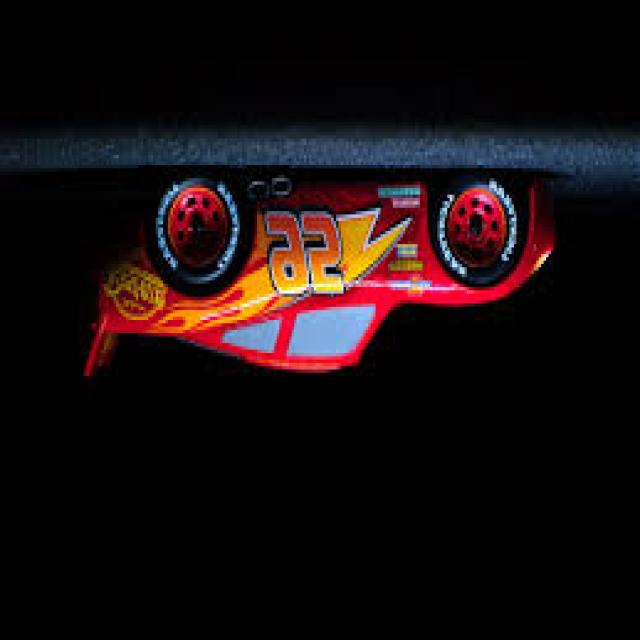Car: (79, 168, 556, 383)
